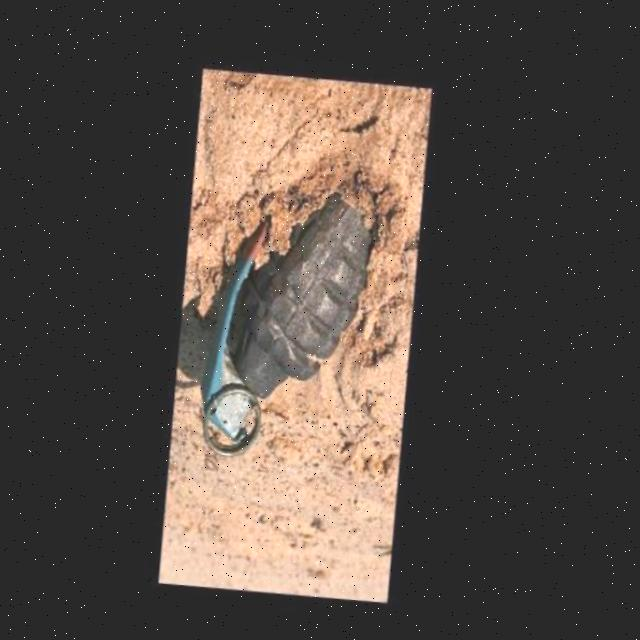grenade: (181, 145, 416, 488)
